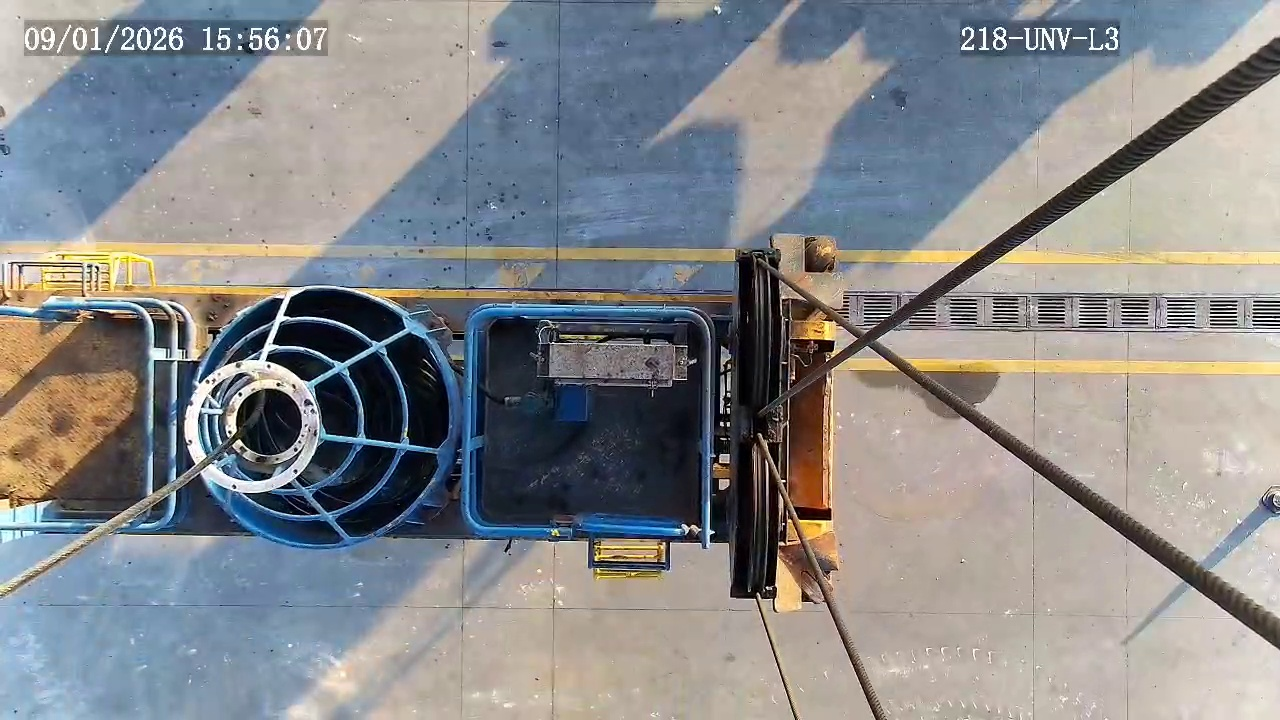right: (181, 360, 319, 492)
